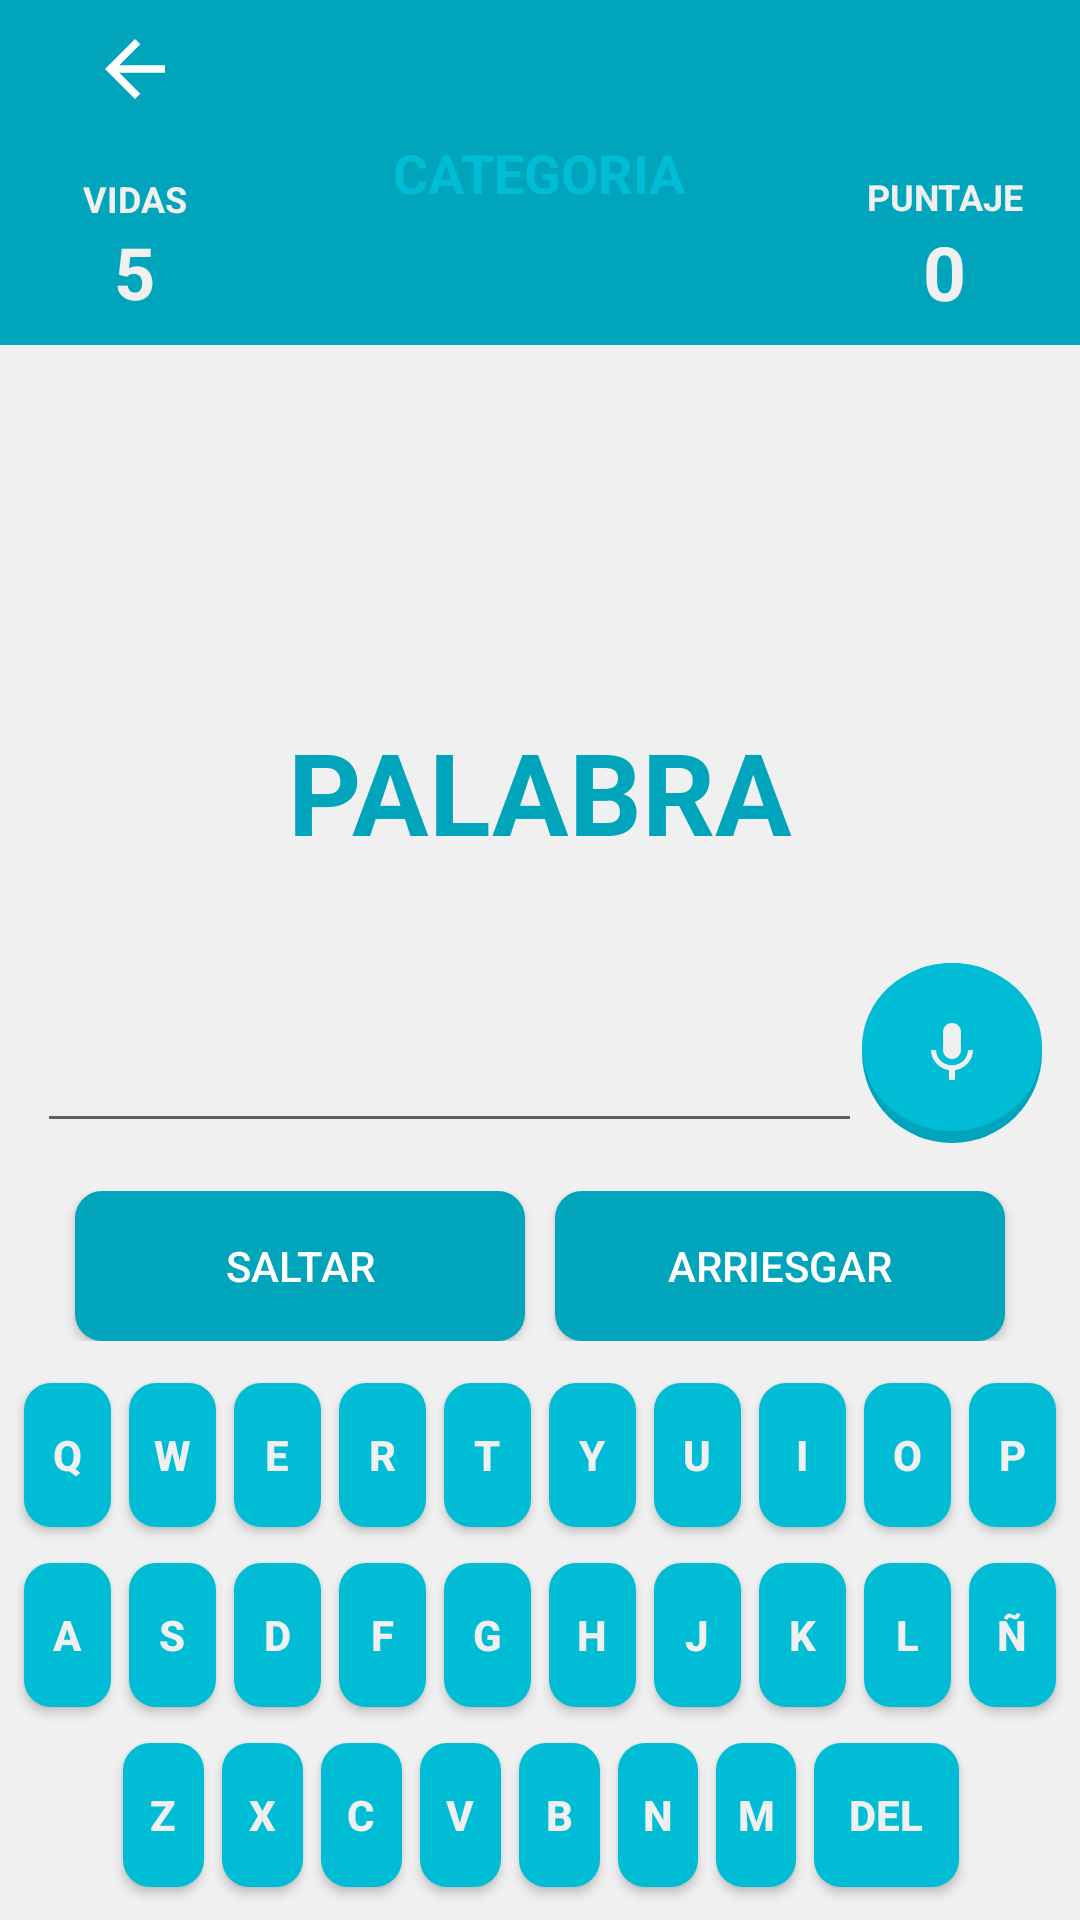

Screen size 1080 x 1920. Icon name, then its center in pixels as [x,y]:
back: [135,69]
mic: [952,1053]
